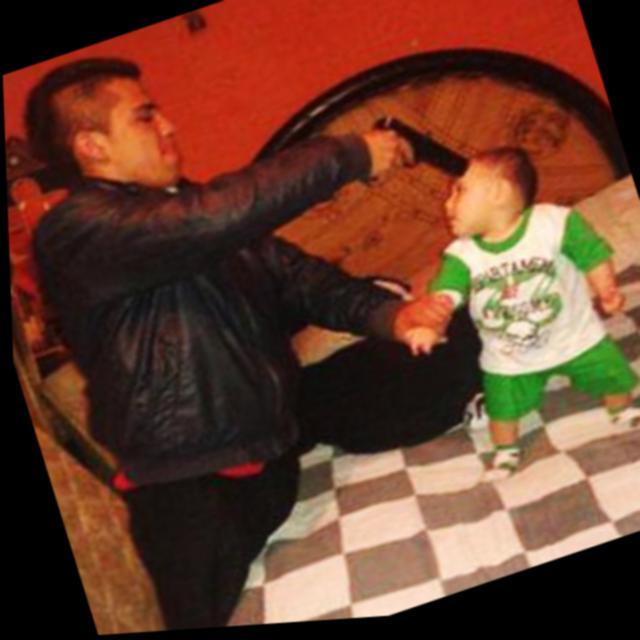weapon: (331, 88, 486, 226)
